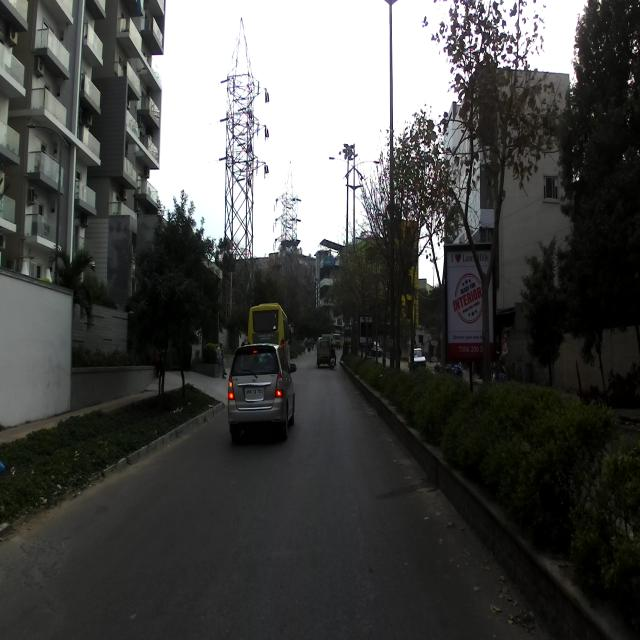car ahead at: (225, 336, 299, 451)
